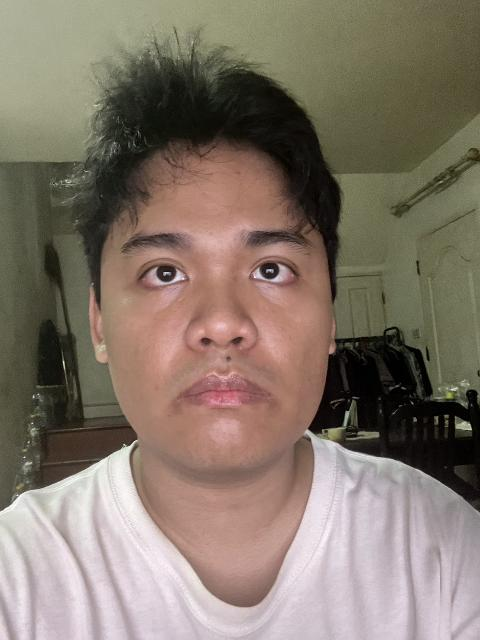fokus: (88, 98, 336, 476)
